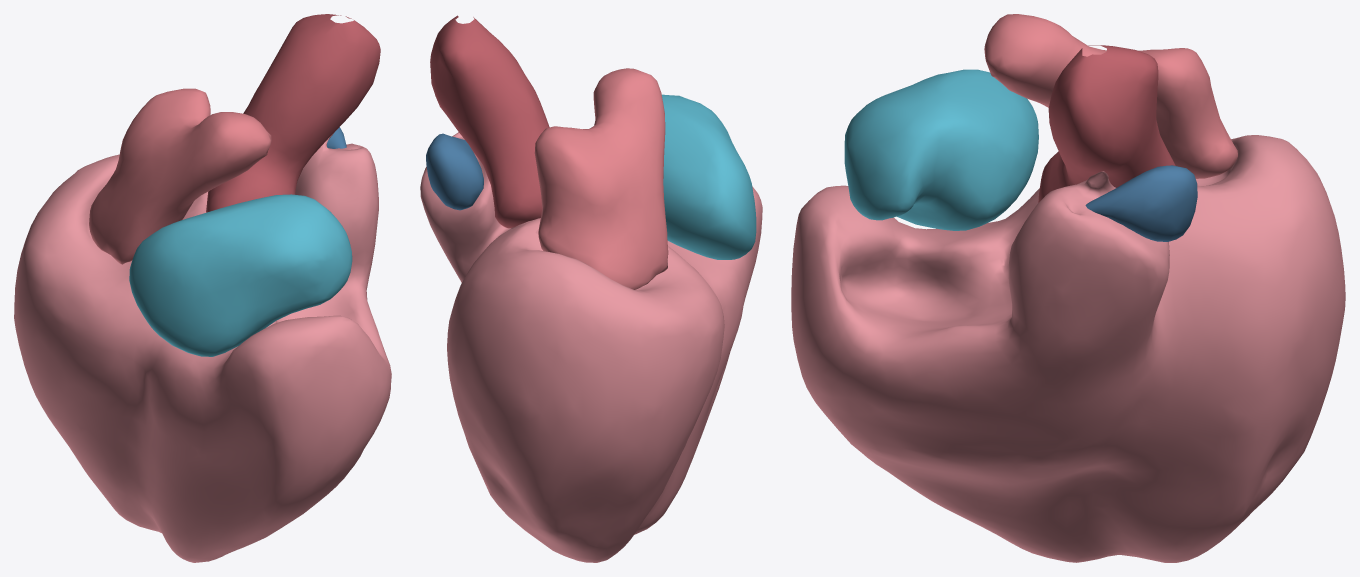
Rendered from frame_3.glb.
The picture shows the model from 3 angles, left to right: view 1: azimuth 30°, elevation 25°; view 2: azimuth 150°, elevation 25°; view 3: azimuth 270°, elevation 25°; orthographic projection. The views are drawn at different scales.
Visible parts, largest first — view 1: Renderer Node; view 2: Renderer Node; view 3: Renderer Node.
Part boxes in pixels (x1,y1,x2,y2): Renderer Node: (14, 14, 391, 562); Renderer Node: (420, 15, 762, 562); Renderer Node: (791, 14, 1345, 562).
Size of the model in its own units: 107 by 164 by 136.
